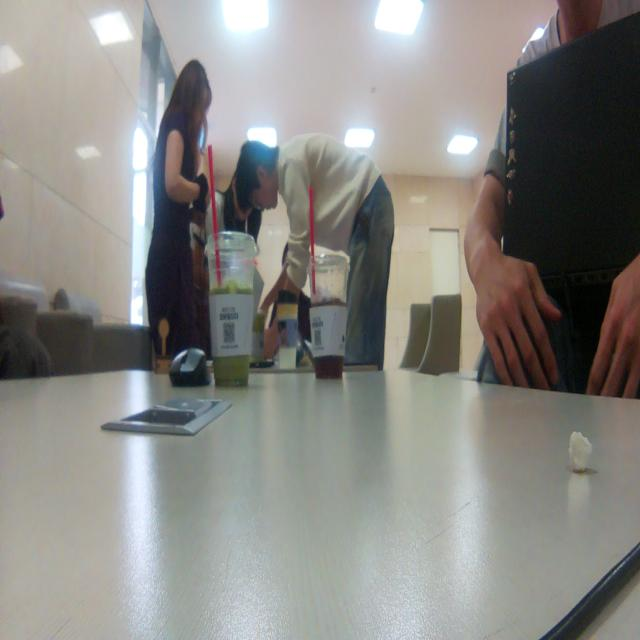target: (152, 318, 178, 375)
